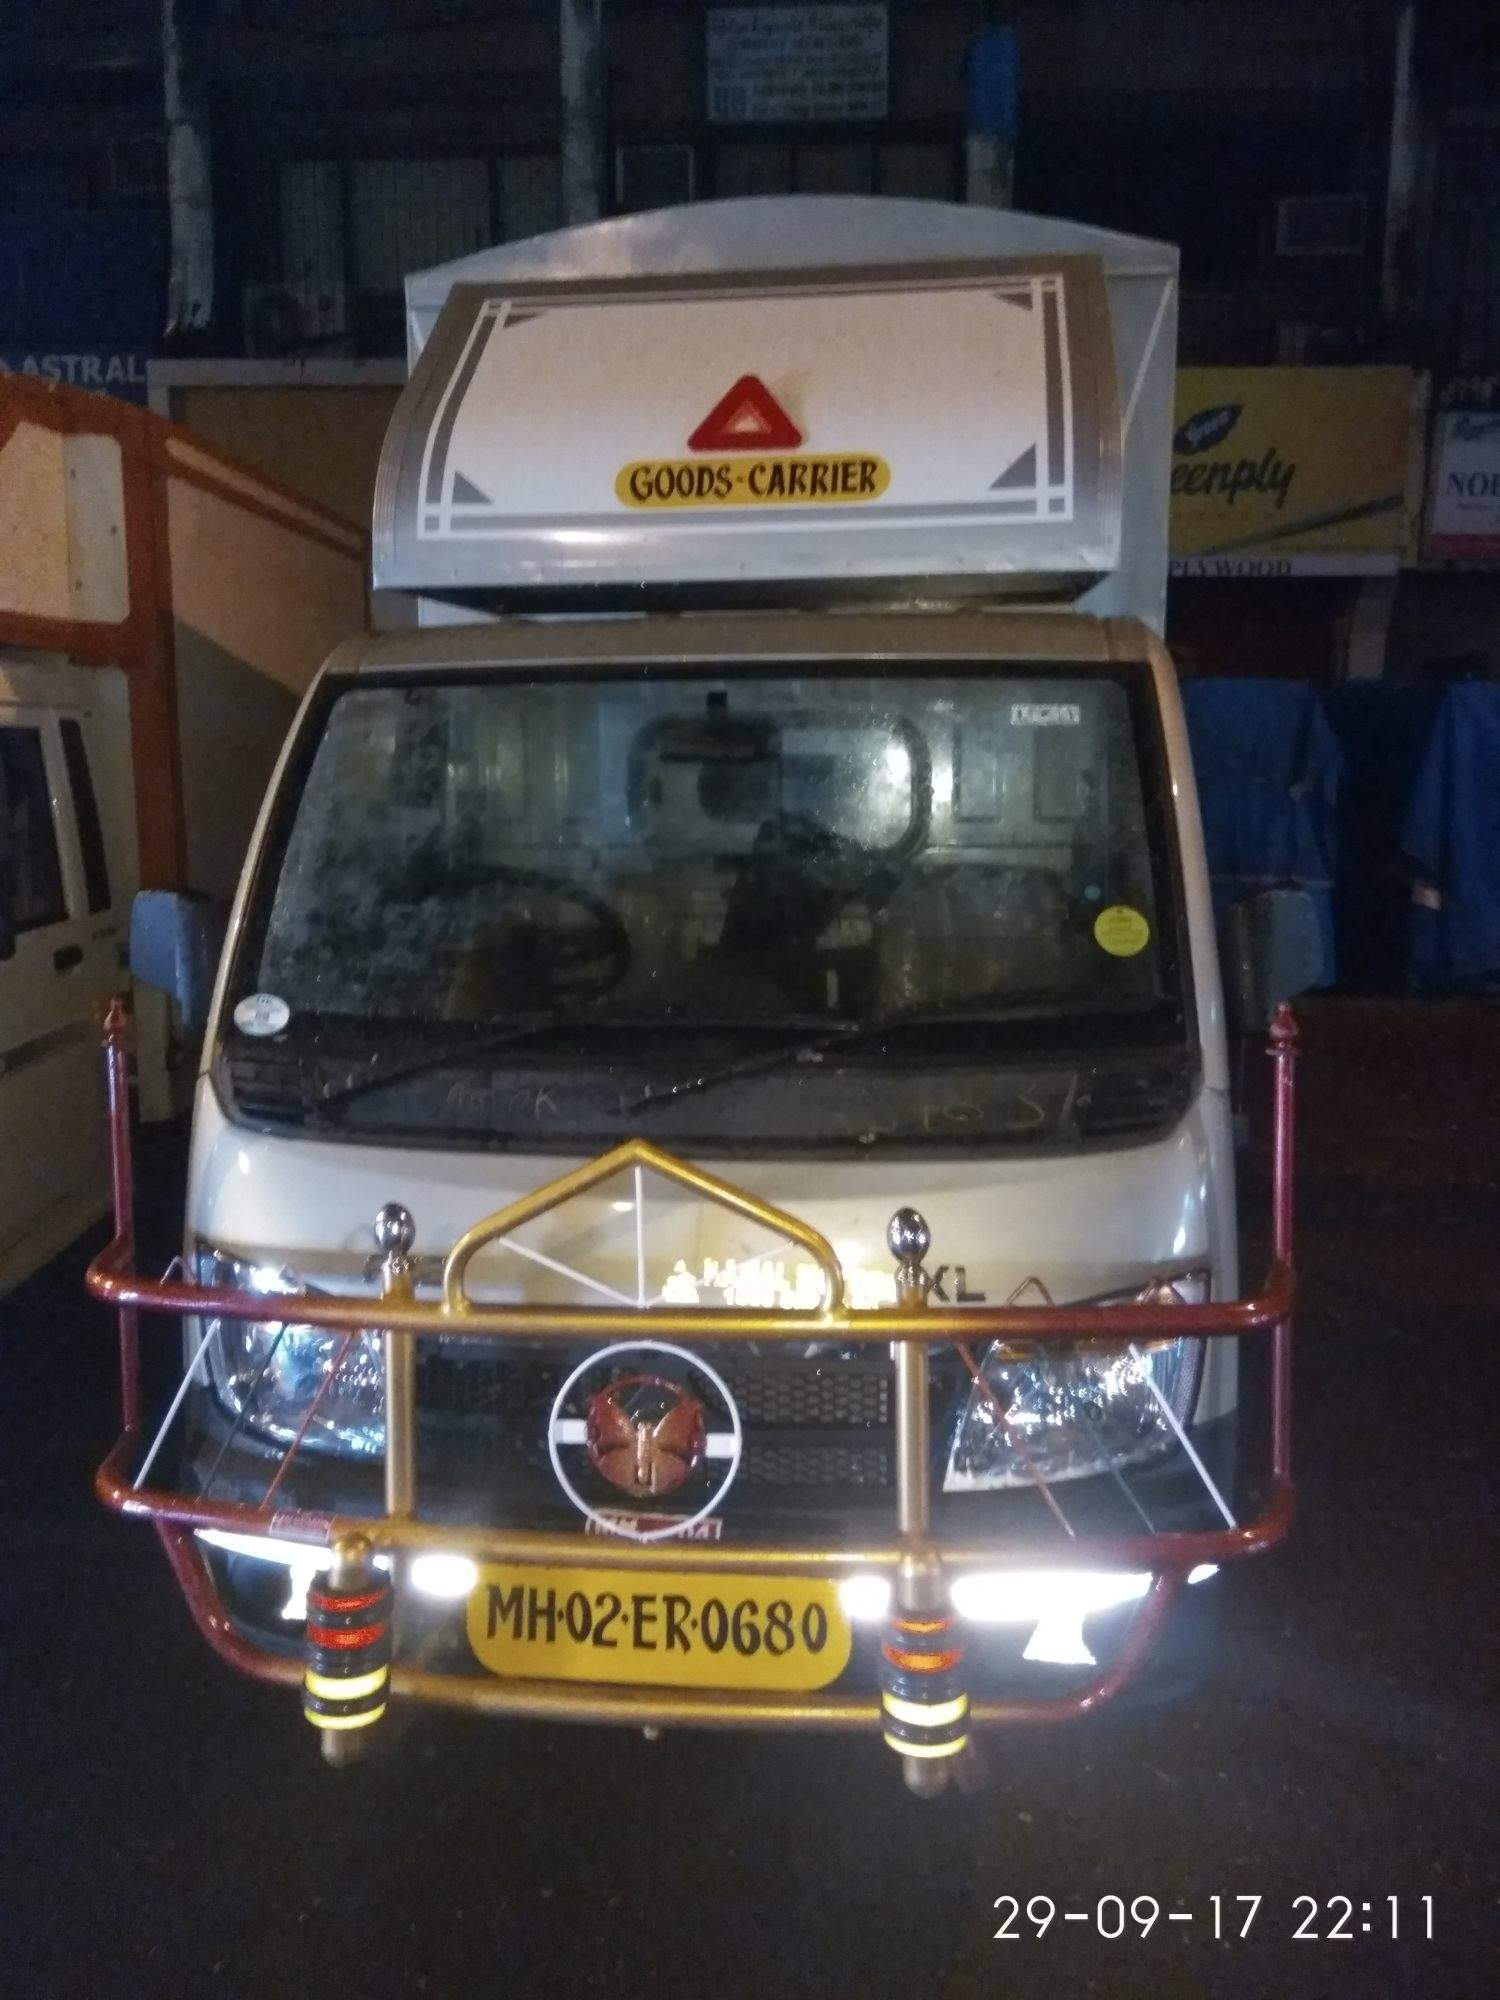numberplate: (462, 1563, 859, 1693)
